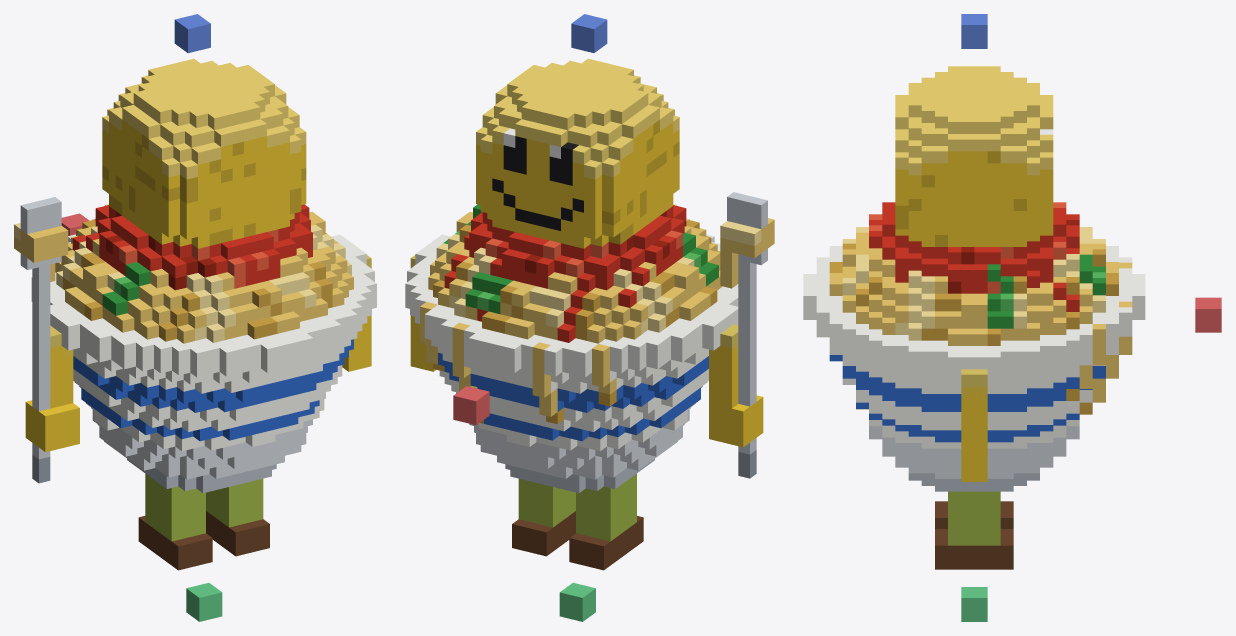
The model's file is SpaghettiNoobetti.glb.
3 views of the same model, side by side, from view 1: azimuth 30°, elevation 25°; view 2: azimuth 150°, elevation 25°; view 3: azimuth 270°, elevation 25° (orthographic).
Visible parts, largest first — view 1: SpaghettiNoobetti_Body, SpaghettiNoobetti_Head1, SpaghettiNoobetti_Arm3, SpaghettiNoobetti_Leg5, SpaghettiNoobetti_Leg4, SpaghettiNoobetti_Top, SpaghettiNoobetti_Built, SpaghettiNoobetti_Arm2; view 2: SpaghettiNoobetti_Body, SpaghettiNoobetti_Head1, SpaghettiNoobetti_Arm3, SpaghettiNoobetti_Leg5, SpaghettiNoobetti_Leg4, SpaghettiNoobetti_Front, SpaghettiNoobetti_Built, SpaghettiNoobetti_Top, SpaghettiNoobetti_Arm2; view 3: SpaghettiNoobetti_Body, SpaghettiNoobetti_Head1, SpaghettiNoobetti_Leg4, SpaghettiNoobetti_Arm2, SpaghettiNoobetti_Front, SpaghettiNoobetti_Top, SpaghettiNoobetti_Built, SpaghettiNoobetti_Leg5, SpaghettiNoobetti_Pivot2.
Boxes of the visible parts, x1,y1,x2,y2 form: SpaghettiNoobetti_Body: [31, 204, 376, 493]; SpaghettiNoobetti_Head1: [102, 58, 306, 248]; SpaghettiNoobetti_Arm3: [14, 197, 79, 483]; SpaghettiNoobetti_Leg5: [138, 474, 212, 570]; SpaghettiNoobetti_Leg4: [206, 478, 269, 556]; SpaghettiNoobetti_Top: [174, 14, 210, 53]; SpaghettiNoobetti_Built: [186, 583, 222, 621]; SpaghettiNoobetti_Arm2: [342, 315, 371, 371]; SpaghettiNoobetti_Body: [405, 204, 738, 492]; SpaghettiNoobetti_Head1: [476, 58, 679, 248]; SpaghettiNoobetti_Arm3: [709, 192, 774, 478]; SpaghettiNoobetti_Leg5: [569, 473, 643, 570]; SpaghettiNoobetti_Leg4: [512, 478, 575, 556]; SpaghettiNoobetti_Front: [453, 386, 489, 425]; SpaghettiNoobetti_Built: [559, 582, 595, 621]; SpaghettiNoobetti_Top: [571, 14, 607, 52]; SpaghettiNoobetti_Arm2: [410, 315, 435, 371]; SpaghettiNoobetti_Body: [803, 202, 1145, 491]; SpaghettiNoobetti_Head1: [895, 66, 1053, 246]; SpaghettiNoobetti_Leg4: [935, 491, 1013, 569]; SpaghettiNoobetti_Arm2: [961, 386, 987, 481]; SpaghettiNoobetti_Front: [1195, 297, 1221, 332]; SpaghettiNoobetti_Top: [961, 14, 987, 48]; SpaghettiNoobetti_Built: [961, 587, 987, 621]; SpaghettiNoobetti_Leg5: [935, 501, 1013, 528]; SpaghettiNoobetti_Pivot2: [961, 369, 987, 398].
Size of the model in its own units: 3.75 by 6.2 by 3.98.
Materials: 1 (1 with a texture image).
